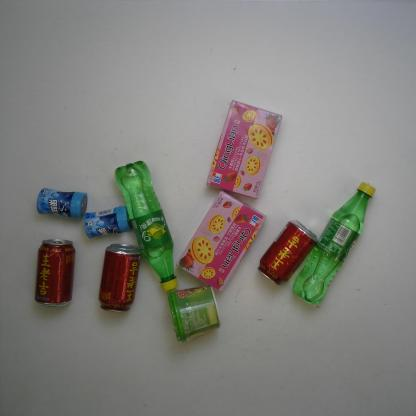Dessert: (174, 189, 268, 293), (205, 98, 285, 200)
Drink: (291, 181, 376, 307), (114, 160, 179, 293), (257, 218, 319, 286), (97, 243, 141, 313), (34, 239, 76, 308)
Gum: (83, 205, 134, 239), (35, 188, 89, 220)
Instant Drink: (166, 284, 221, 345)
